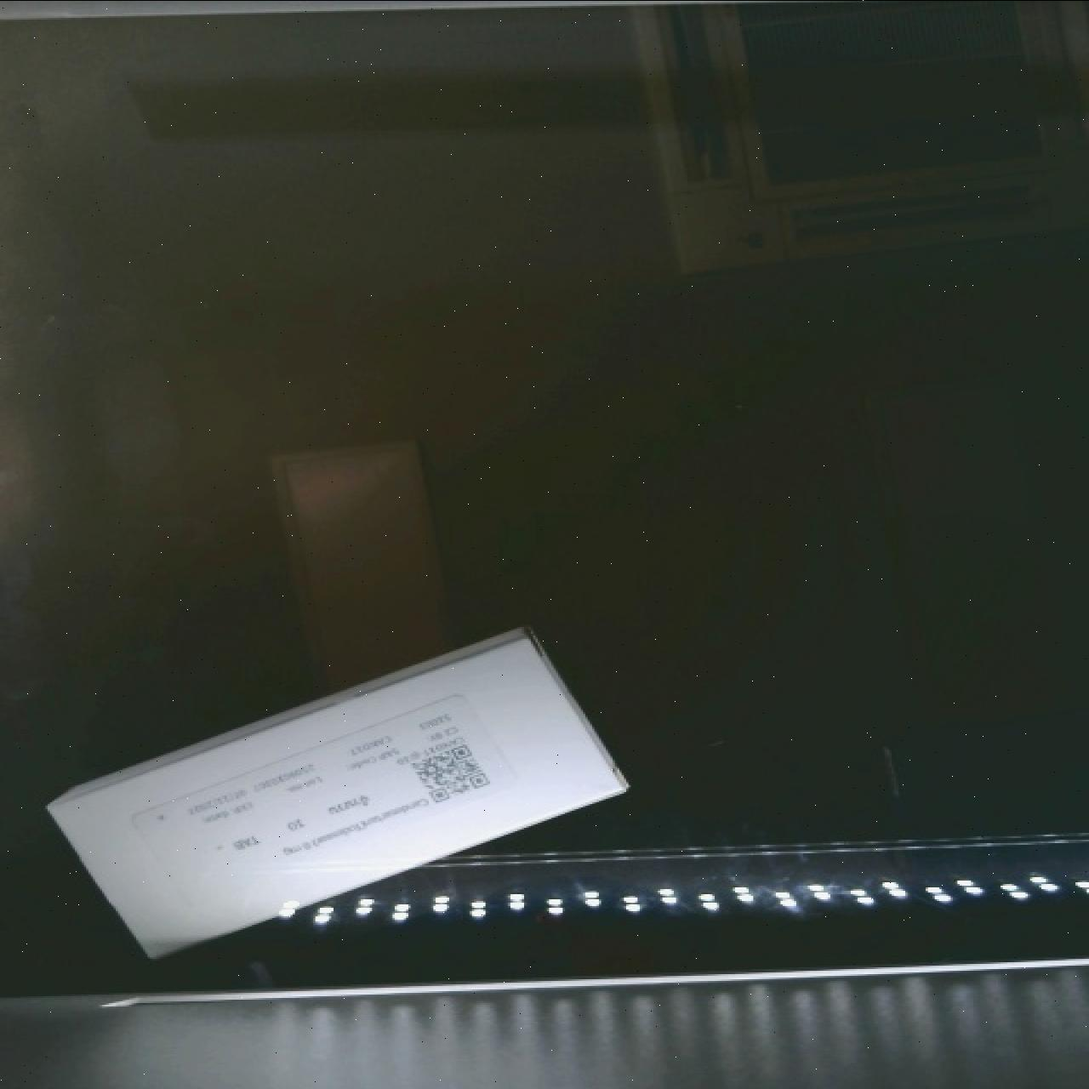qr_code: (384, 713, 518, 823)
